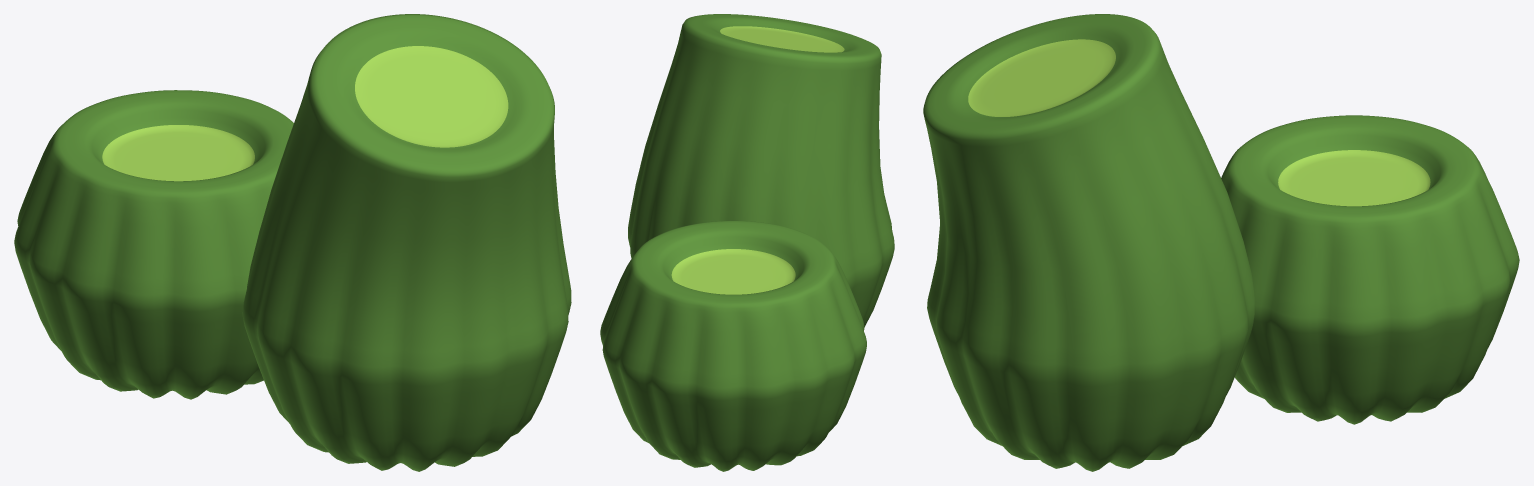
File: tubo vurdz 1.fbx
The picture shows the model from 3 angles, left to right: view 1: azimuth 30°, elevation 25°; view 2: azimuth 150°, elevation 25°; view 3: azimuth 270°, elevation 25°; orthographic projection. The views are drawn at different scales.
Visible parts, largest first — view 1: long vurdz, tubo vurdz; view 2: tubo vurdz, long vurdz; view 3: long vurdz, tubo vurdz.
Boxes of the visible parts, bbox=[...] form: long vurdz: bbox=[242, 14, 571, 471]; tubo vurdz: bbox=[14, 90, 293, 399]; tubo vurdz: bbox=[600, 220, 866, 471]; long vurdz: bbox=[628, 14, 894, 326]; long vurdz: bbox=[923, 14, 1254, 471]; tubo vurdz: bbox=[1221, 115, 1519, 424].
Bounding box in the file's own units: 61.68 × 61.07 × 83.06.
